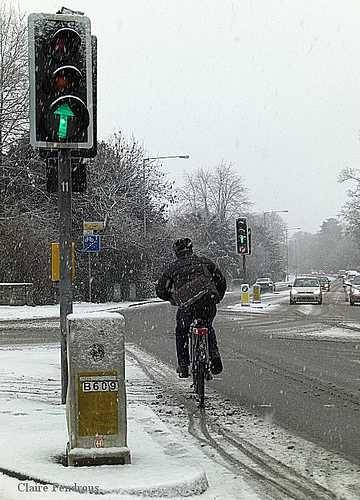green: (32, 19, 96, 144), (45, 96, 94, 143)
